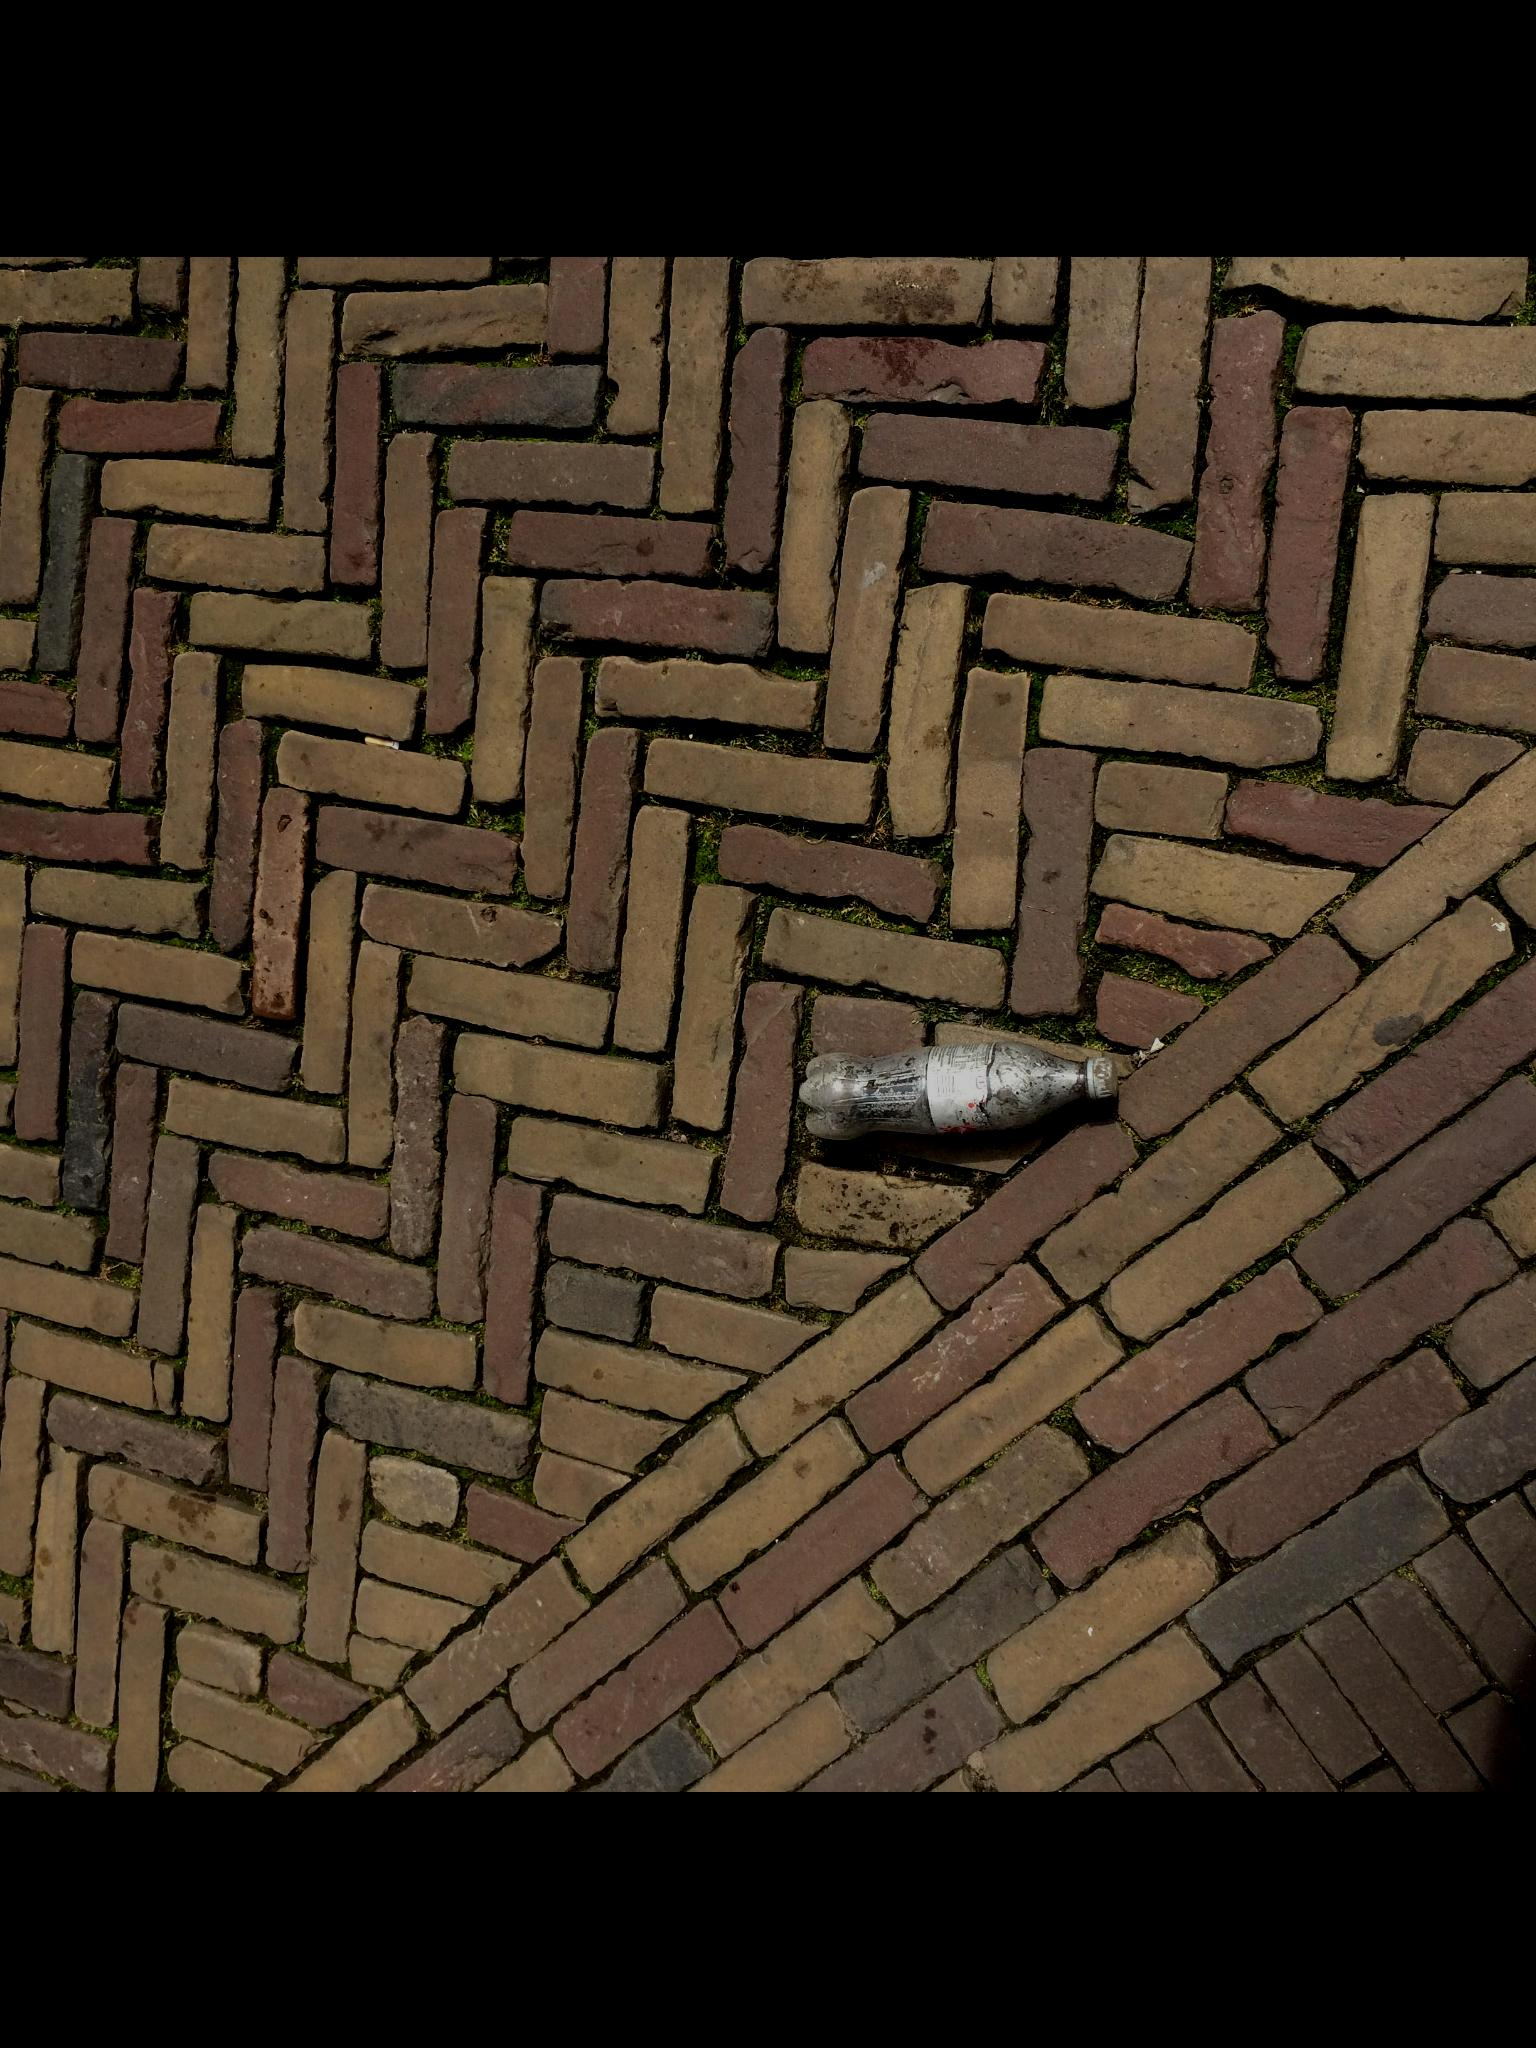bottle: (762, 1001, 1142, 1200)
